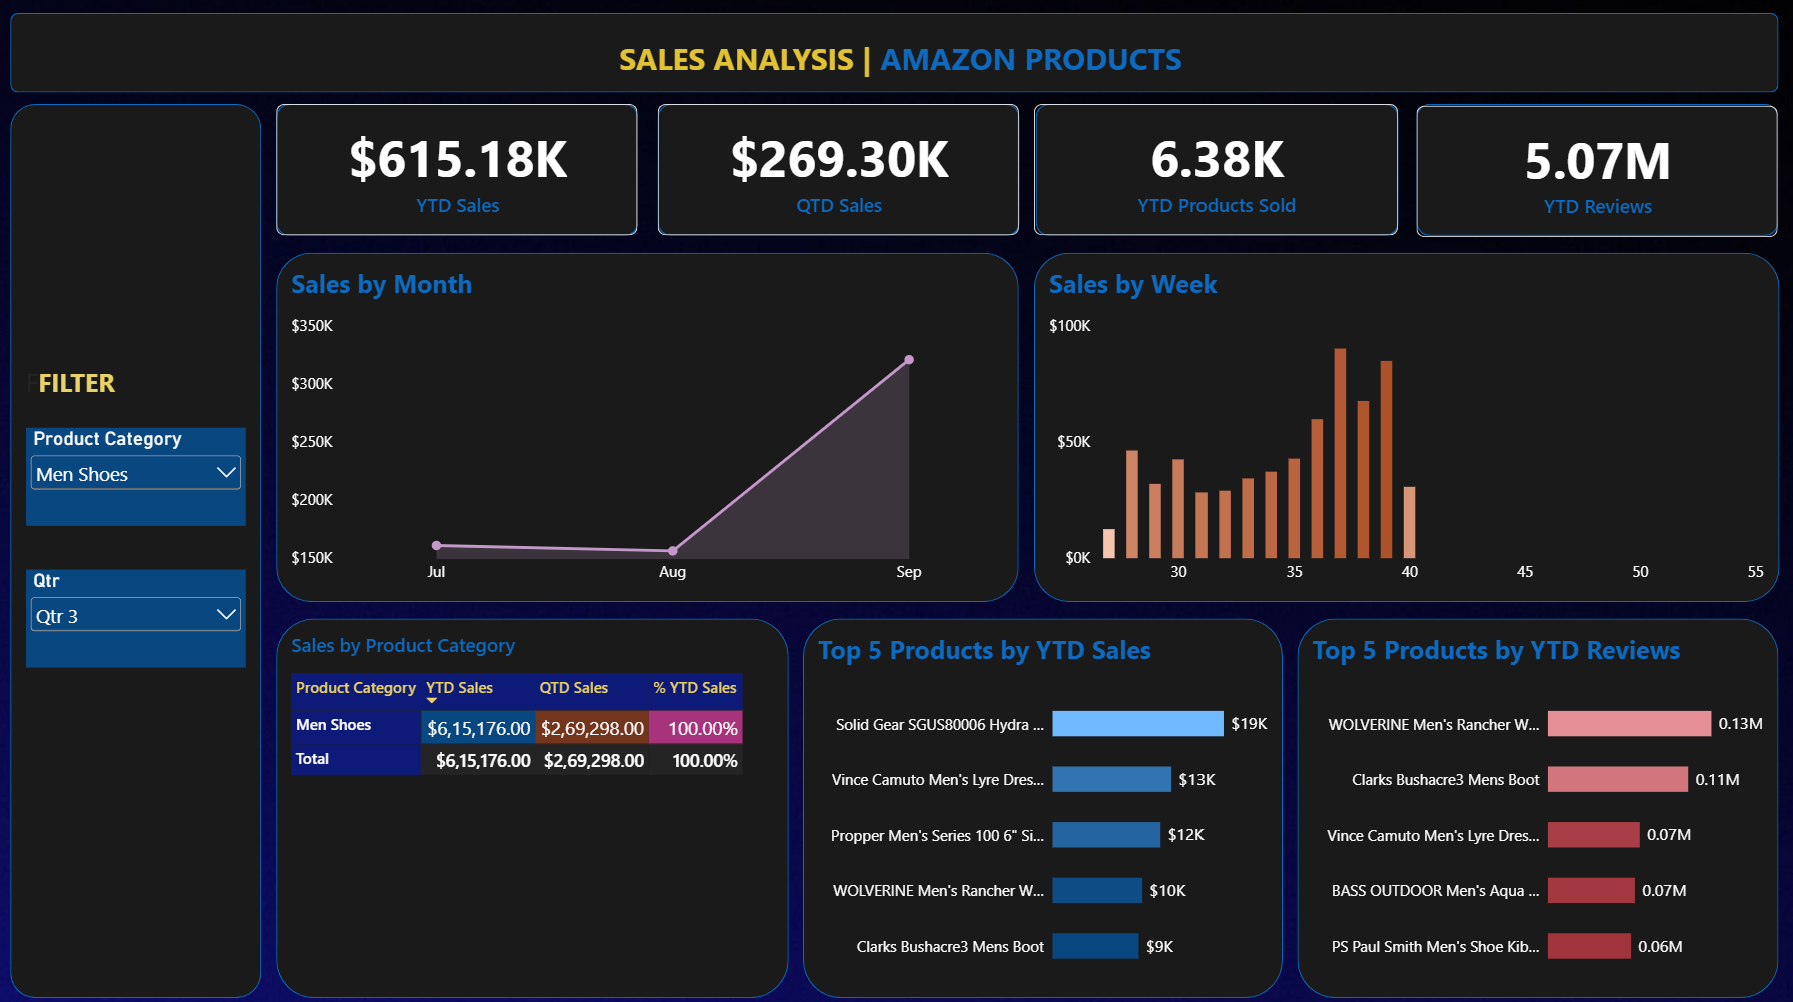

The page's visual inventory and layout, read from the dashboard file:
{"tool":"powerbi","page":{"name":"Page 1","canvas":[1920,1080],"ordinal":0},"visuals":[{"type":"shape","box":[13.4,15.6,1884,84.7],"z":0},{"type":"shape","box":[13.4,111.5,267.6,952],"z":2000},{"type":"group","id":"g1","title":"Group 1","box":[296.5,111.5,1600.9,142.7],"z":3000},{"type":"shape","box":[296.5,111.5,385.7,140.5],"z":3000,"group":"g1"},{"type":"cardVisual","fields":{"Data":["Amazon_Data.YTD Sales"]},"box":[296.5,111.5,385.7,140.5],"z":4000,"group":"g1"},{"type":"shape","box":[296.5,269.8,791.5,372.3],"z":4000},{"type":"shape","box":[702.3,111.5,385.7,140.5],"z":4500,"group":"g1"},{"type":"cardVisual","fields":{"Data":["Amazon_Data.QTD Sales"]},"box":[702.3,111.5,385.7,140.5],"z":5000,"group":"g1"},{"type":"areaChart","title":"Sales by Month","fields":{"Category":["Date Table.Month Name"],"Y":["Sum(Amazon_Data.Price(Dollar))"]},"box":[296.5,269.8,791.5,372.3],"z":5000},{"type":"shape","box":[1106.6,111.5,385.7,140.5],"z":5500,"group":"g1"},{"type":"cardVisual","fields":{"Data":["Amazon_Data.YTD Products Sold"]},"box":[1103.6,111.5,388,140.5],"z":6000,"group":"g1"},{"type":"shape","box":[1103.7,269.8,793.7,372.3],"z":6000},{"type":"shape","box":[1511.6,111.5,385.7,140.5],"z":6500,"group":"g1"},{"type":"cardVisual","fields":{"Data":["Amazon_Data.YTD Reviews"]},"box":[1511.6,113.7,385.7,140.5],"z":7000,"group":"g1"},{"type":"columnChart","title":"Sales by Week","fields":{"Category":["Date Table.Week Number"],"Y":["Sum(Amazon_Data.Price(Dollar))"]},"box":[1103.7,269.8,793.7,372.3],"z":7000},{"type":"shape","box":[296.5,660,546.3,403.6],"z":8000},{"type":"pivotTable","title":"Sales by Product Category","fields":{"Rows":["Amazon_Data.Product Category"],"Values":["Amazon_Data.YTD Sales1","Amazon_Data.QTD Sales","Amazon_Data.YTD Sales"]},"box":[296.5,660,546.3,403.6],"z":9000},{"type":"shape","box":[858.4,660,510.6,403.6],"z":9001},{"type":"shape","box":[1384.6,660,512.8,403.6],"z":9002},{"type":"clusteredBarChart","title":"Top 5 Products by YTD Sales","fields":{"Category":["Amazon_Data.Product Description"],"Y":["Amazon_Data.YTD Sales"]},"box":[858.4,660,510.6,403.6],"z":9003},{"type":"clusteredBarChart","title":"Top 5 Products by YTD Reviews","fields":{"Category":["Amazon_Data.Product Description"],"Y":["Amazon_Data.YTD Reviews"]},"box":[1384.6,660,512.8,403.6],"z":9004},{"type":"slicer","fields":{"Values":["Amazon_Data.Product Category"]},"box":[29,457.1,234.1,104.8],"z":9005},{"type":"slicer","fields":{"Values":["Date Table.Qtr"]},"box":[29,608.7,234.1,104.8],"z":9007},{"type":"textbox","box":[662.2,40.1,613.1,44.6],"z":9008},{"type":"textbox","box":[29,390.2,234.1,35.7],"z":9010}]}

Visuals, with their boxes in screenshot pixels (x1, y1, x2, y2), scaled from the page's 1920x1080 canvas onto the 1793x1002 screenshot:
shape: region(13, 14, 1772, 93)
shape: region(13, 103, 262, 987)
"Group 1" group: region(277, 103, 1772, 236)
shape: region(277, 103, 637, 234)
cardVisual - Amazon_Data.YTD Sales: region(277, 103, 637, 234)
shape: region(277, 250, 1016, 596)
shape: region(656, 103, 1016, 234)
cardVisual - Amazon_Data.QTD Sales: region(656, 103, 1016, 234)
"Sales by Month" areaChart: region(277, 250, 1016, 596)
shape: region(1033, 103, 1394, 234)
cardVisual - Amazon_Data.YTD Products Sold: region(1031, 103, 1393, 234)
shape: region(1031, 250, 1772, 596)
shape: region(1412, 103, 1772, 234)
cardVisual - Amazon_Data.YTD Reviews: region(1412, 105, 1772, 236)
"Sales by Week" columnChart: region(1031, 250, 1772, 596)
shape: region(277, 612, 787, 987)
"Sales by Product Category" pivotTable: region(277, 612, 787, 987)
shape: region(802, 612, 1278, 987)
shape: region(1293, 612, 1772, 987)
"Top 5 Products by YTD Sales" clusteredBarChart: region(802, 612, 1278, 987)
"Top 5 Products by YTD Reviews" clusteredBarChart: region(1293, 612, 1772, 987)
slicer - Amazon_Data.Product Category: region(27, 424, 246, 521)
slicer - Date Table.Qtr: region(27, 565, 246, 662)
textbox: region(618, 37, 1191, 79)
textbox: region(27, 362, 246, 395)
